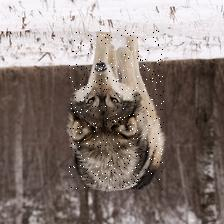WOLF: (69, 29, 164, 189)
